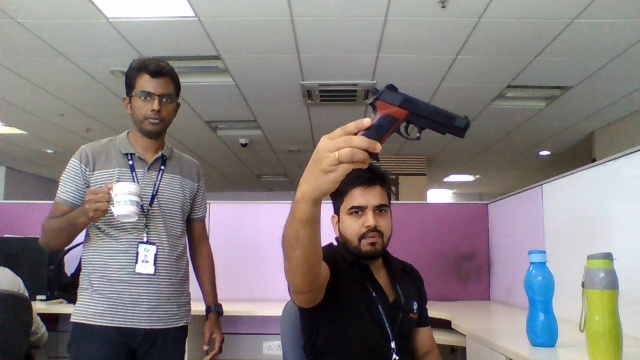gun: (375, 84, 471, 143)
